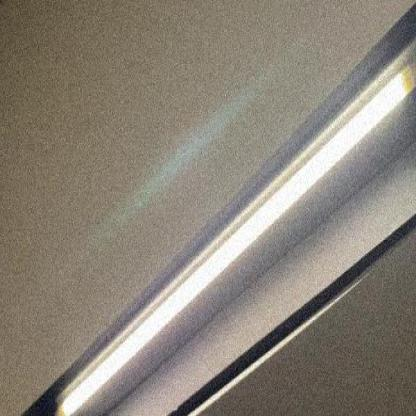light_on: (34, 18, 416, 415)
